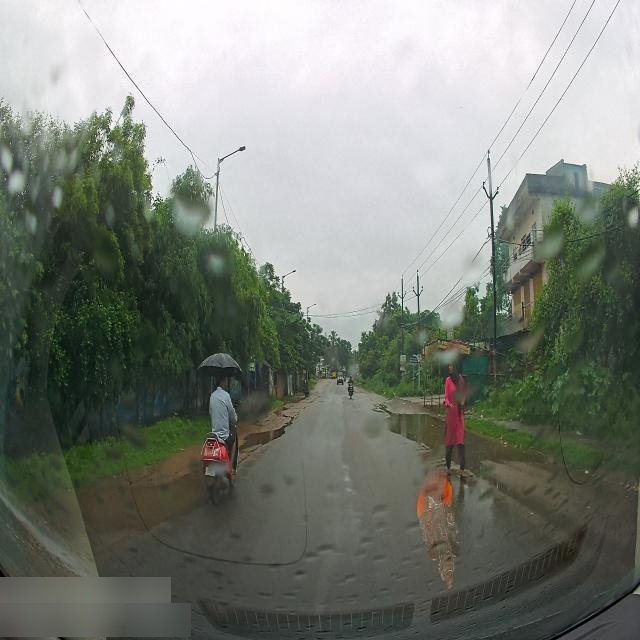pothole: (368, 398, 444, 455), (244, 425, 294, 455)
